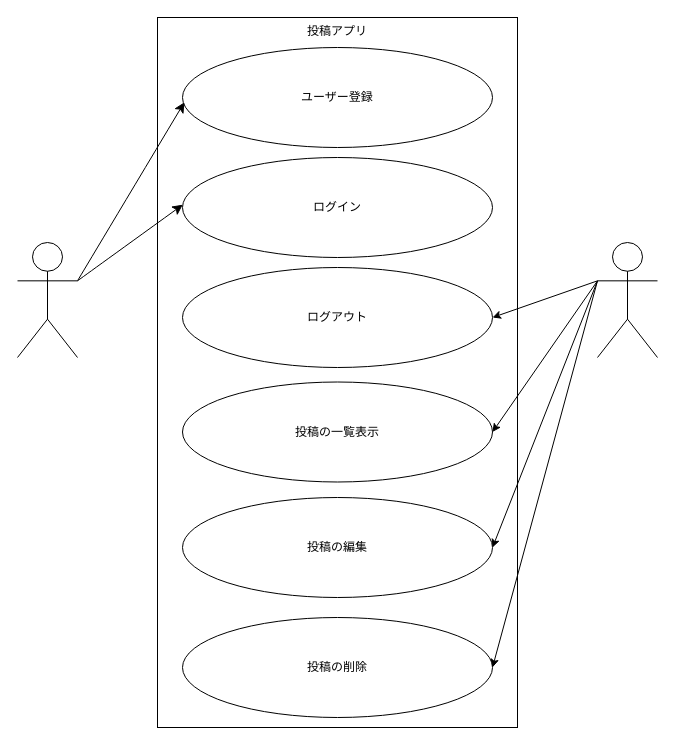
This 699x745 diagram has some shape labels left out. The centre of each missing label's shape, as x and y in pixels:
"ログイン済み利用者" belongs at point (627, 300).
"訪問者" belongs at point (47, 300).
